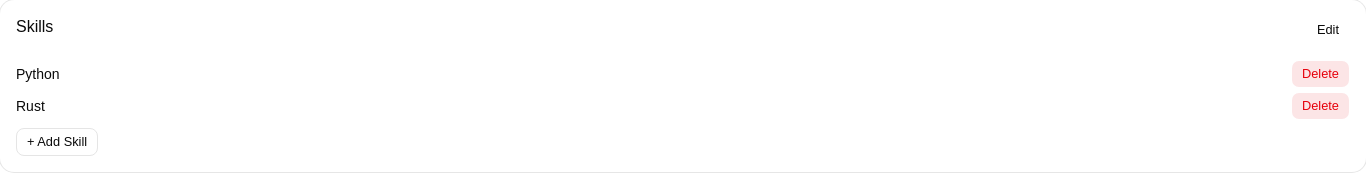
it: EntitySection › leaves a different row's Delete button untouched while another row's delete is in flight
Click the button "Delete" in the row of "Python": (1320, 74) [1291,60,1350,88]
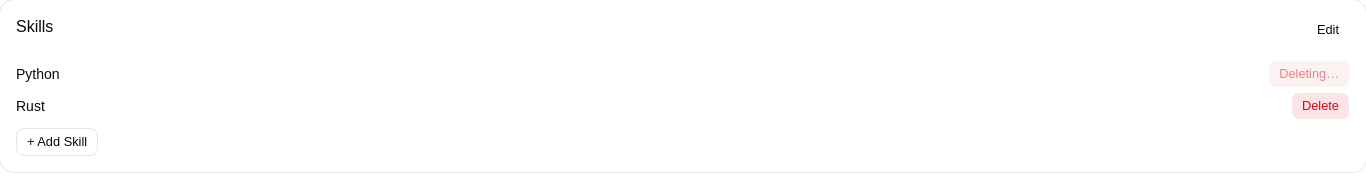
expect the button "Delete" is enabled: met, box [1291,92,1350,120]
expect the button "Deleting…" is shown: met, box [1268,60,1350,88]
